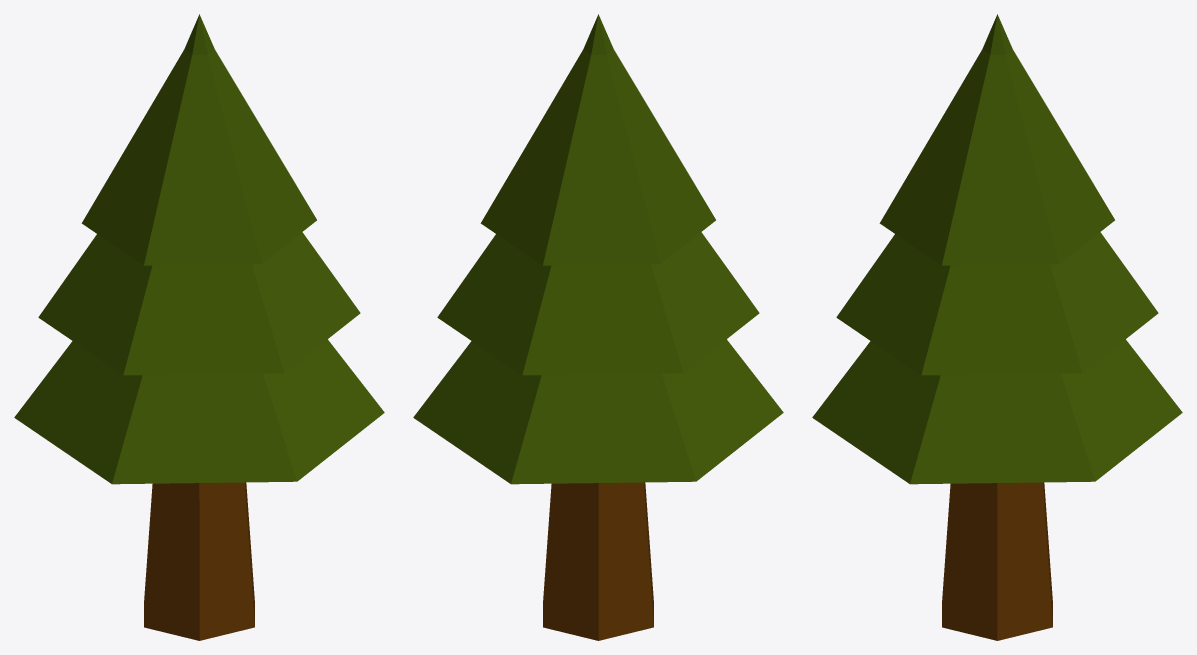
File: TreeE.fbx
3 views of the same model, side by side, from view 1: azimuth 30°, elevation 25°; view 2: azimuth 150°, elevation 25°; view 3: azimuth 270°, elevation 25° (orthographic).
Visible parts, largest first — view 1: group_1.004; view 2: group_1.004; view 3: group_1.004.
Part boxes in pixels (x1,y1,x2,y2): group_1.004: [14, 14, 384, 640]; group_1.004: [413, 14, 783, 640]; group_1.004: [812, 14, 1182, 640].
Size of the model in its own units: 180 by 365 by 204.
